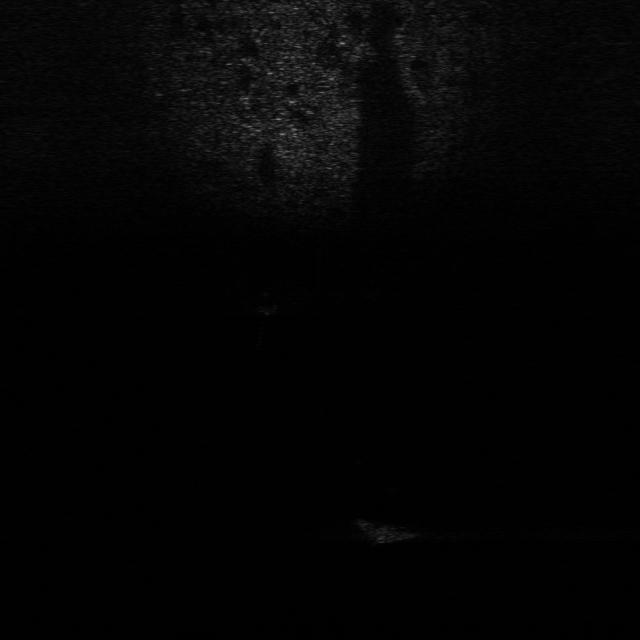ball: (256, 295, 284, 318)
metal bucket: (344, 505, 434, 549)
